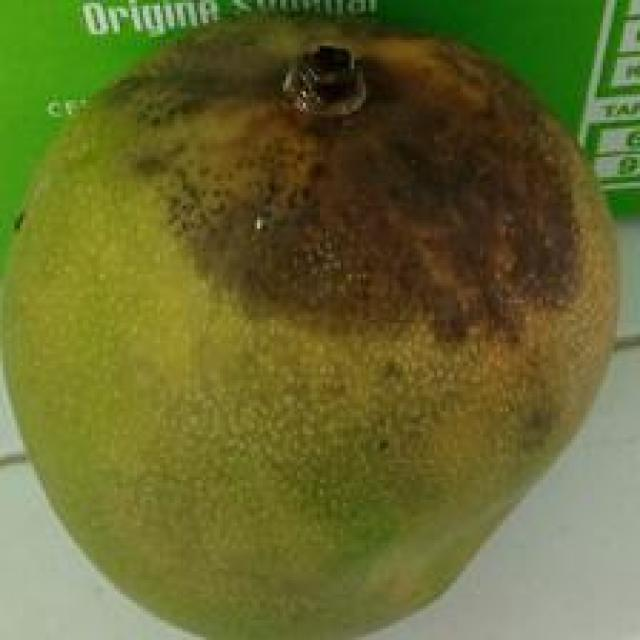Bad_Mango: (8, 24, 612, 640)
